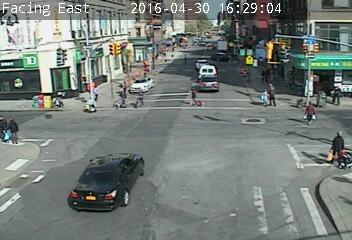neg: (205, 179, 228, 210), (10, 40, 31, 68), (121, 144, 139, 168), (25, 113, 43, 137), (264, 178, 282, 201), (40, 180, 56, 201), (229, 54, 244, 74), (236, 156, 251, 175), (146, 186, 161, 205), (46, 93, 61, 112), (165, 112, 179, 132), (72, 120, 86, 140), (85, 168, 99, 187), (107, 190, 120, 208), (248, 122, 261, 139), (167, 157, 180, 174), (44, 32, 57, 49), (14, 164, 27, 181), (212, 133, 224, 150), (254, 29, 266, 46), (181, 182, 192, 197), (224, 95, 235, 110), (304, 22, 315, 36), (165, 31, 174, 43), (225, 19, 234, 31), (322, 51, 330, 62), (79, 29, 87, 40)
pos: (323, 129, 351, 168), (107, 83, 129, 113), (129, 84, 148, 109), (3, 117, 22, 142), (300, 98, 318, 122), (330, 84, 345, 104), (264, 83, 279, 102), (187, 84, 201, 103), (257, 87, 270, 103), (256, 68, 268, 84), (88, 83, 100, 98), (180, 52, 189, 64), (134, 53, 143, 64), (203, 41, 210, 51)
